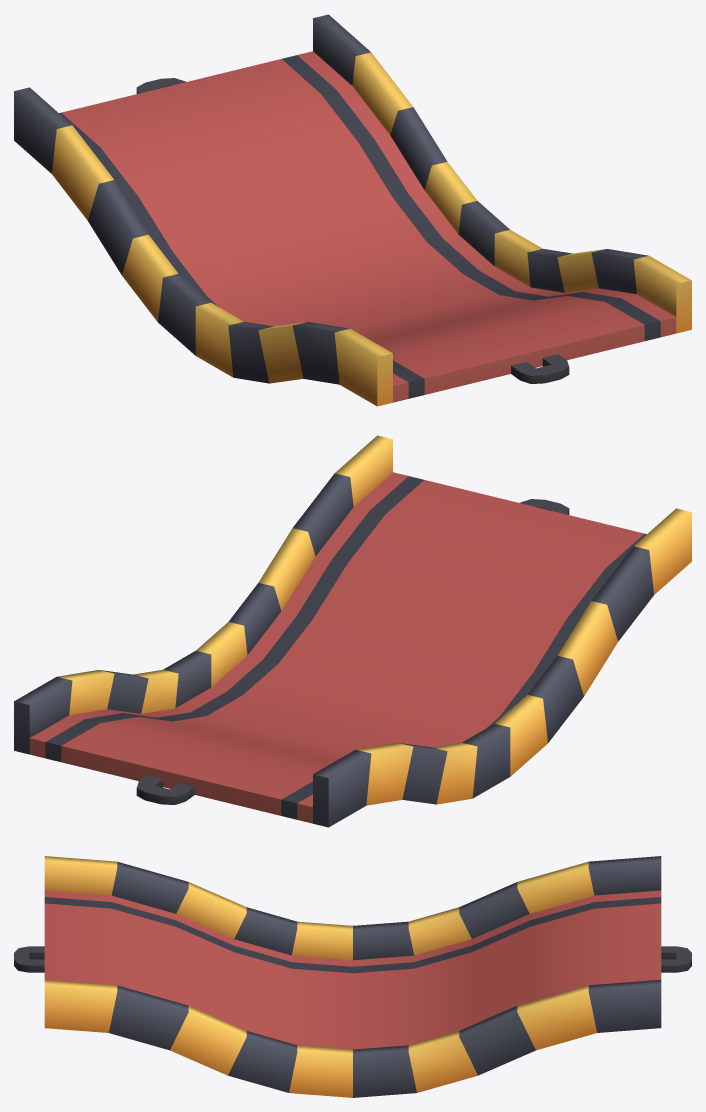
The model's file is track-road-wide-straight-bump-down.fbx.
3 views of the same model, one above another, from view 1: azimuth 30°, elevation 25°; view 2: azimuth 150°, elevation 25°; view 3: azimuth 270°, elevation 25° (orthographic). The views are drawn at different scales.
Parts seen in each view (by area): view 1: track-road-wide-straight-bump-down; view 2: track-road-wide-straight-bump-down; view 3: track-road-wide-straight-bump-down.
Boxes of the visible parts, bbox=[...] form: track-road-wide-straight-bump-down: bbox=[14, 14, 691, 406]; track-road-wide-straight-bump-down: bbox=[14, 435, 691, 827]; track-road-wide-straight-bump-down: bbox=[14, 856, 691, 1097].
Bounding box in the file's own units: 200 × 80 × 440.
